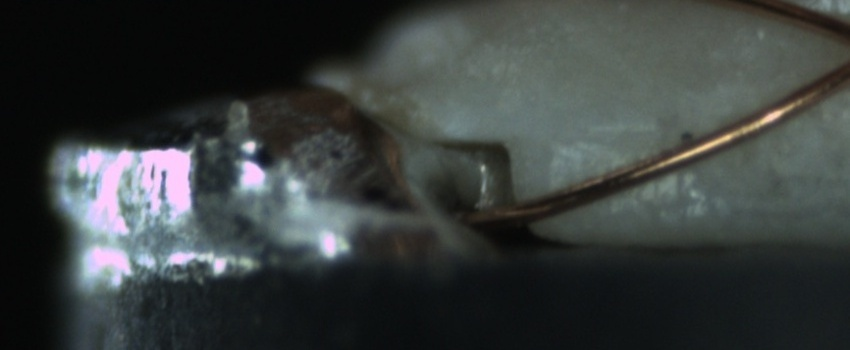DL: (550, 99, 679, 165)
